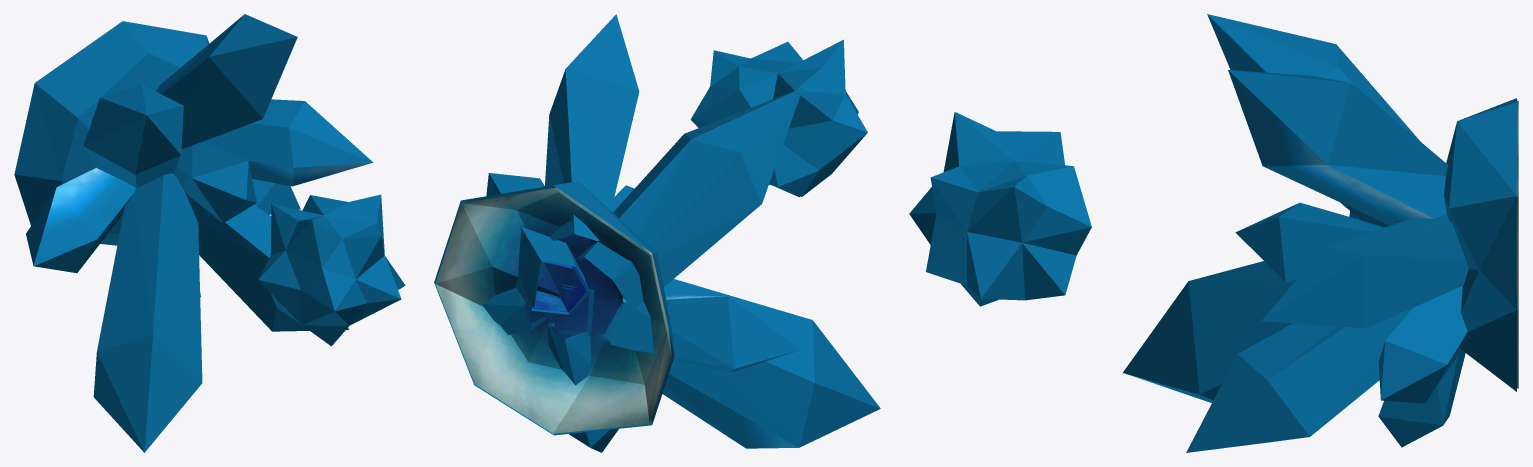
The model's file is guild_shujing.obj.
3 renders of one model, left to right at view 1: azimuth 30°, elevation 25°; view 2: azimuth 150°, elevation 25°; view 3: azimuth 270°, elevation 25°, orthographic. The views are drawn at different scales.
Parts seen in each view (by area): view 1: guild_shuijing01, 1; view 2: guild_shuijing01, guild_shuijing, 1; view 3: guild_shuijing01, 1, guild_shuijing.
Part boxes in pixels (x1,y1,x2,y2): guild_shuijing01: [14, 14, 373, 452]; 1: [258, 194, 405, 346]; guild_shuijing01: [434, 14, 880, 452]; guild_shuijing: [435, 187, 671, 433]; 1: [690, 39, 867, 197]; guild_shuijing01: [1123, 14, 1517, 452]; 1: [909, 112, 1091, 306]; guild_shuijing: [1516, 101, 1518, 388].
Bounding box in the file's own units: 91.48 × 99.46 × 127.
Materials: 2 (2 with a texture image).
